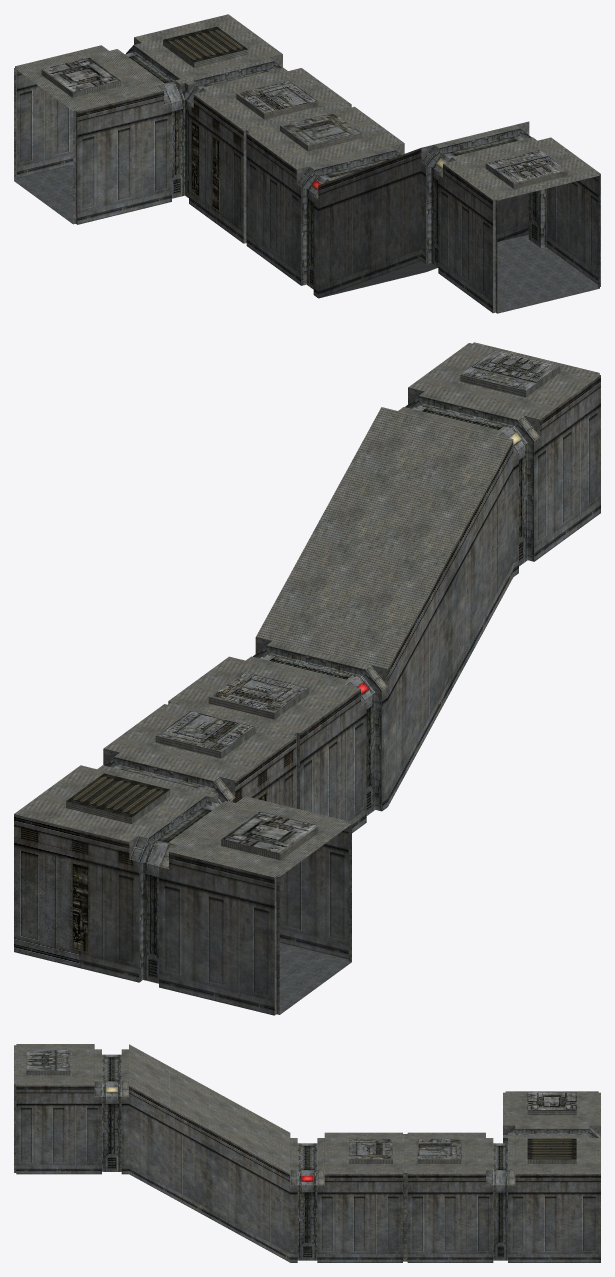
The model's file is poi_all_impl_bunker_abandoned_s01_r22_ramp8_mesh.fbx.
3 renders of one model, top to bottom at view 1: azimuth 30°, elevation 25°; view 2: azimuth 150°, elevation 25°; view 3: azimuth 270°, elevation 25°, orthographic. The views are drawn at different scales.
Visible parts, largest first — view 1: mesh_node; view 2: mesh_node; view 3: mesh_node.
Boxes of the visible parts, box(x1,y1,x2,y2) form: mesh_node: box(14, 14, 600, 313); mesh_node: box(14, 342, 600, 1015); mesh_node: box(14, 1044, 600, 1262).
Size of the model in its own units: 8 by 8.2 by 24.
